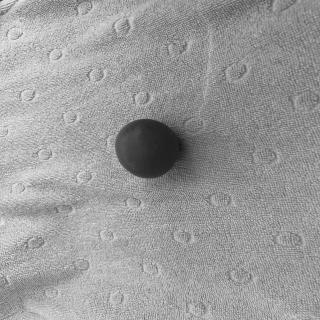Telur: (113, 119, 183, 182)
